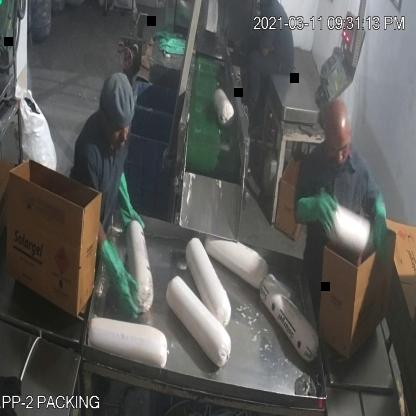glove: (96, 228, 143, 322), (291, 186, 341, 242), (366, 183, 389, 276)
